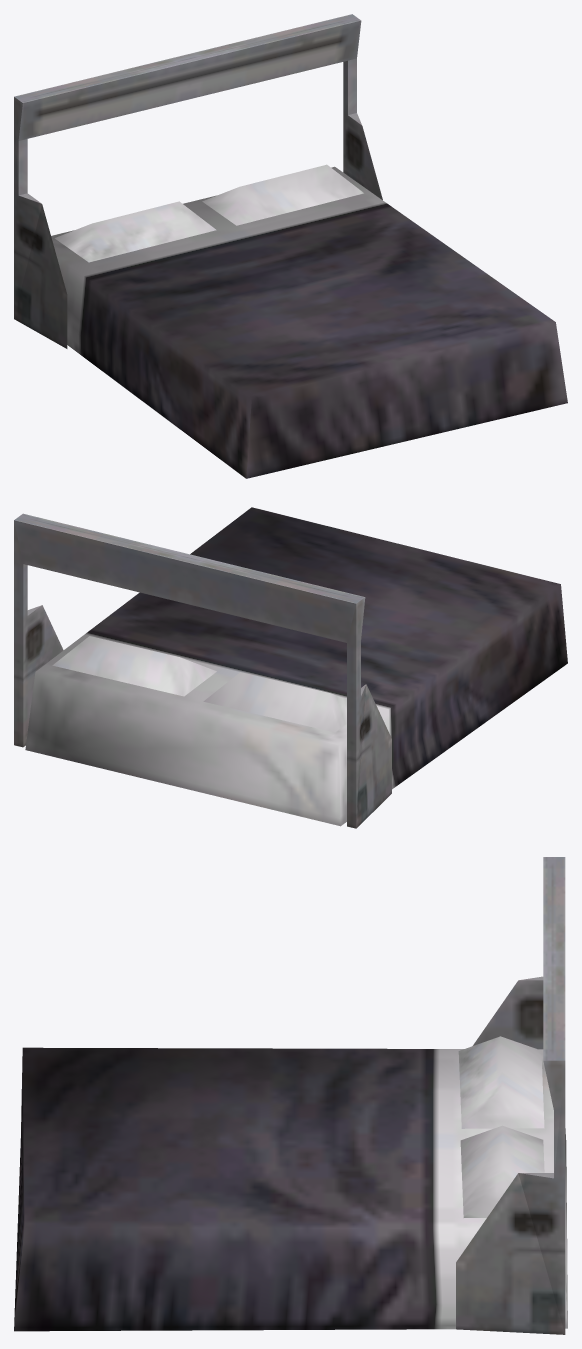
Rendered from frn_all_bed_lg_s2_l2.fbx.
3 views of the same model, one above another, from view 1: azimuth 30°, elevation 25°; view 2: azimuth 150°, elevation 25°; view 3: azimuth 270°, elevation 25° (orthographic). The views are drawn at different scales.
Visible parts, largest first — view 1: mesh_node; view 2: mesh_node; view 3: mesh_node.
Part boxes in pixels (x1=…): mesh_node: x1=14, y1=14, x2=567, y2=478; mesh_node: x1=14, y1=507, x2=567, y2=828; mesh_node: x1=14, y1=857, x2=567, y2=1334.
Size of the model in its own units: 1.72 by 1.09 by 1.98.
1 material, 1 textured.
